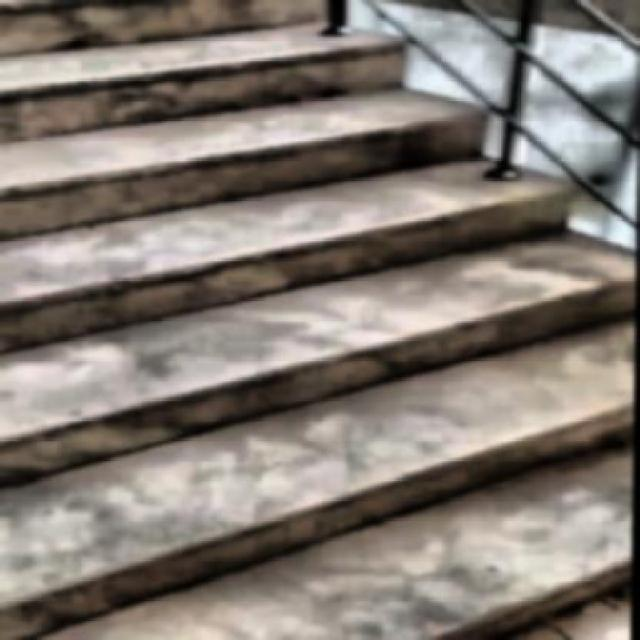stair: (3, 7, 639, 638)
